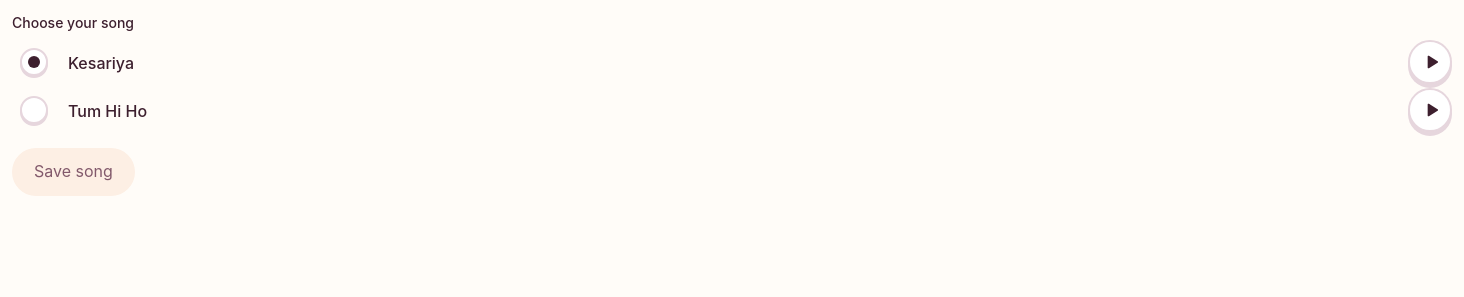
Test: SongPicker › marks the current song and saves only after a change
The width and height of the screenshot is (1464, 297).
Expected: the radio button labelled "Kesariya" is checked, [20,48,48,76]
Expected: the button "Save song" is disabled, [12,148,135,196]
Click the radio button labelled "Tum Hi Ho" at x=34, y=110, box [20,96,48,124]
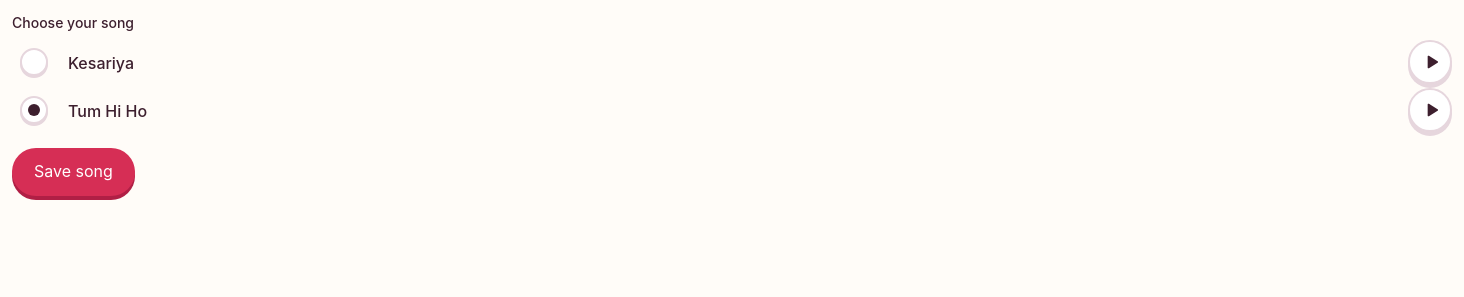
Expected: the button "Save song" is enabled
Click the button "Save song" at x=73, y=172, box [12,148,135,196]
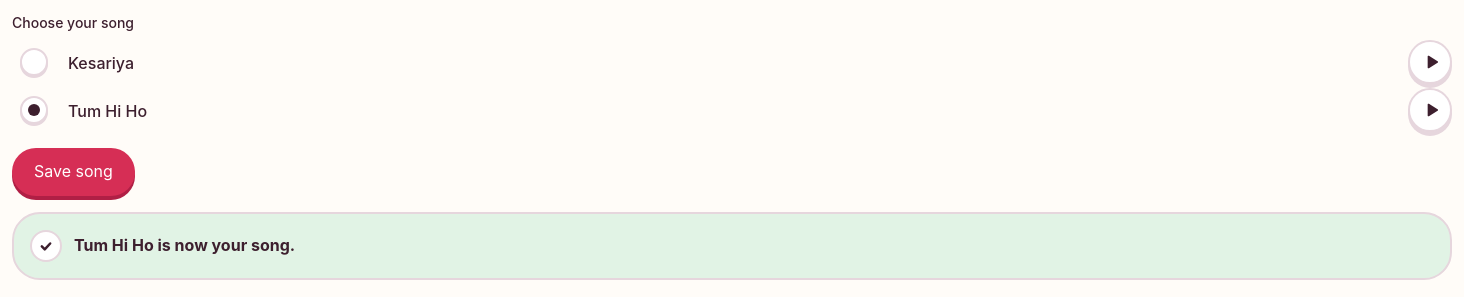
Expected: the text "Tum Hi Ho is now your song." is shown, [74,232,295,258]
